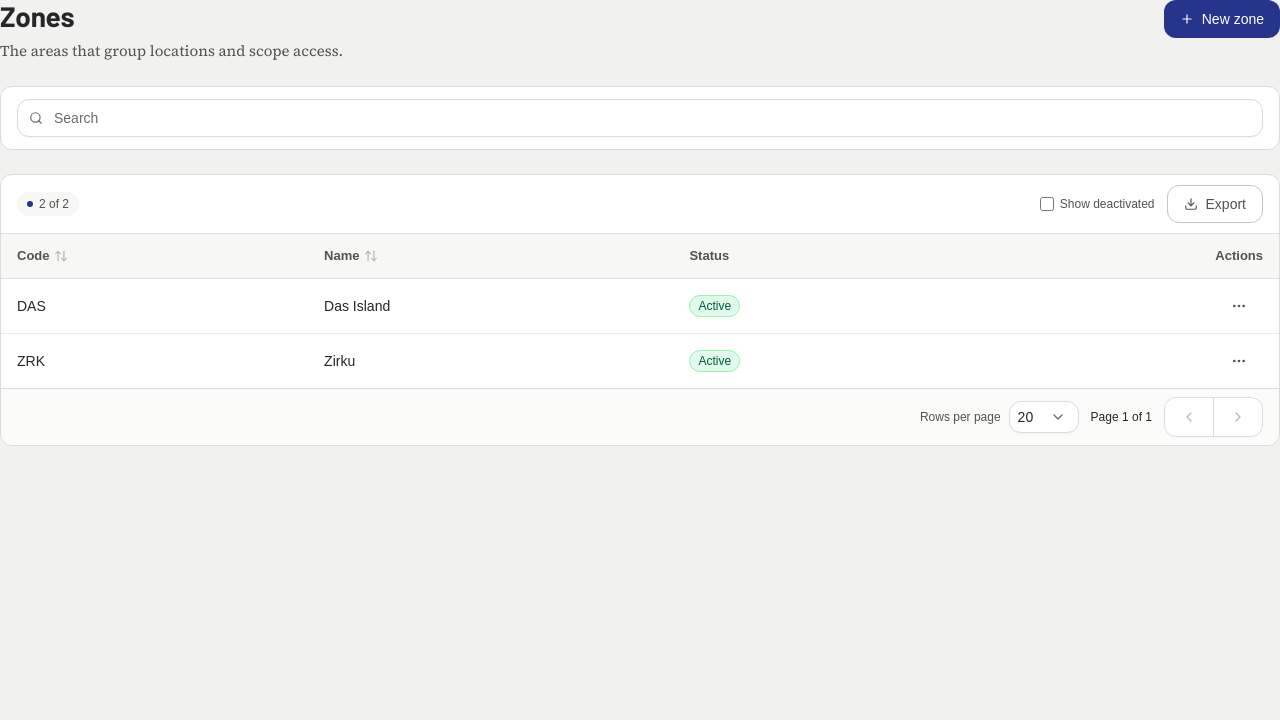
Test: PROMPT-4.2 the master page pattern (plan P1-02) › PROMPT-2.8 deactivates with a reason, then refreshes the list
Expected: the text "Das Island" is shown, 308,279 -> 673,333
Click the button named "Actions for DAS · Das Island" at (1239,306), box 1215,287 -> 1263,325
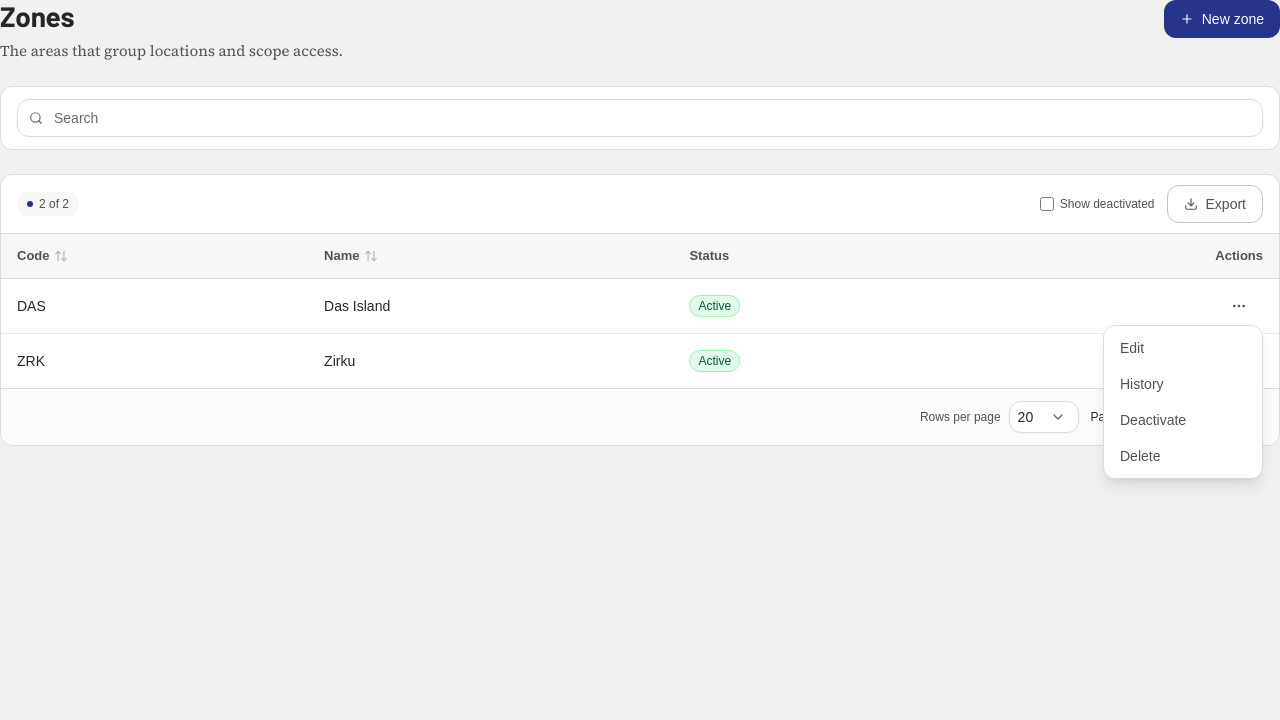
Expected: the menu items read "Edit", "History", "Deactivate", "Delete", in this order
Click the menu item "Deactivate" at (1153,420), box 1120,412 -> 1186,428
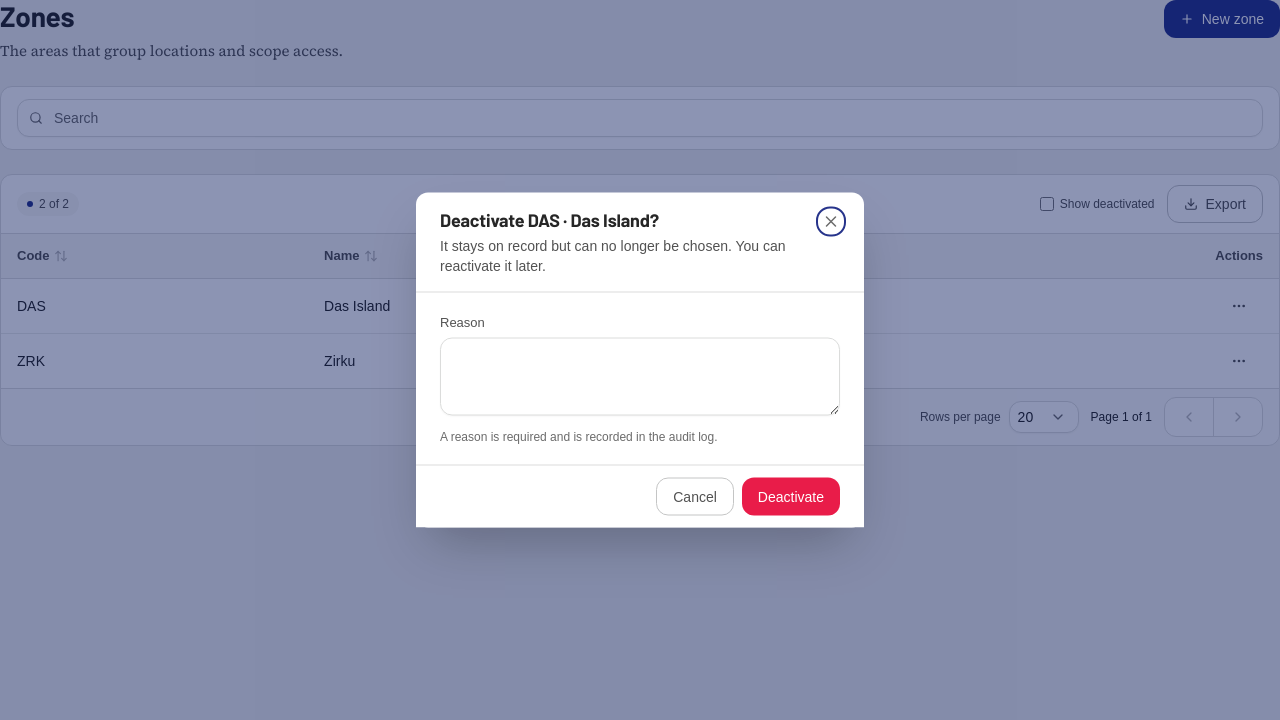
Type "Closed for works" into the text box labelled "Reason" at (640,376), box 440,338 -> 840,416
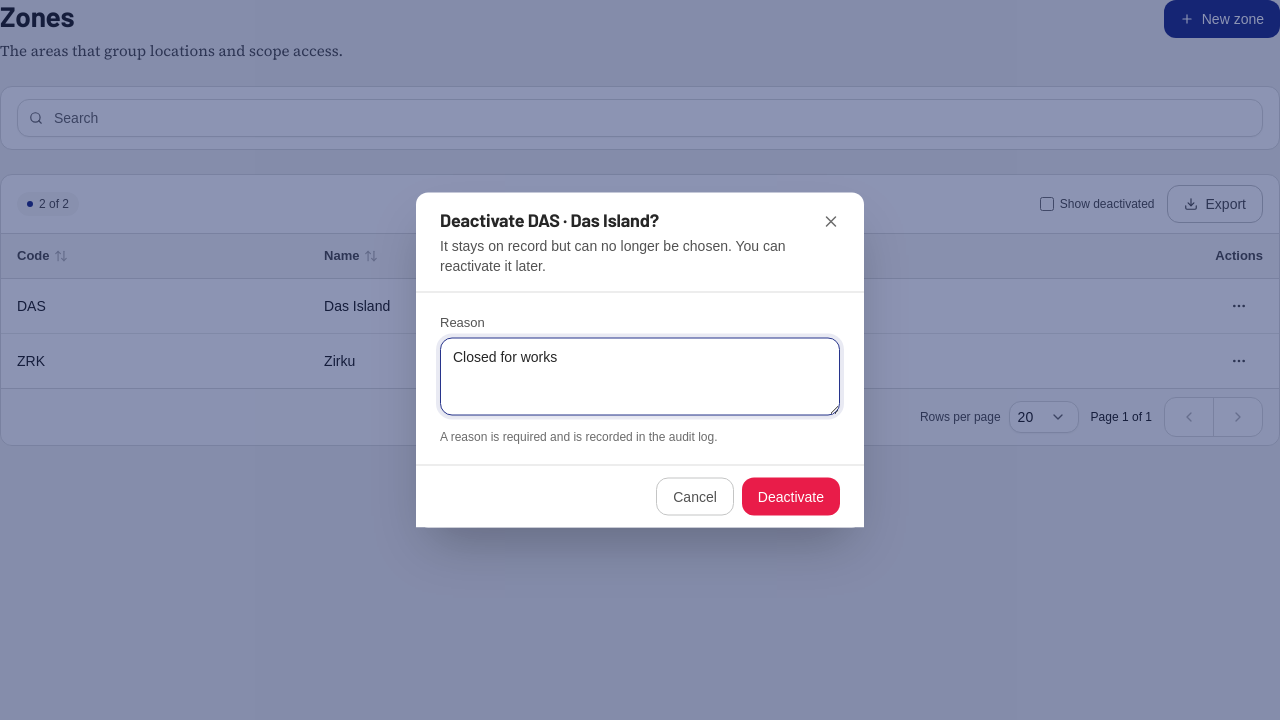
Click the button "Deactivate" at (791,496), box 742,478 -> 840,516
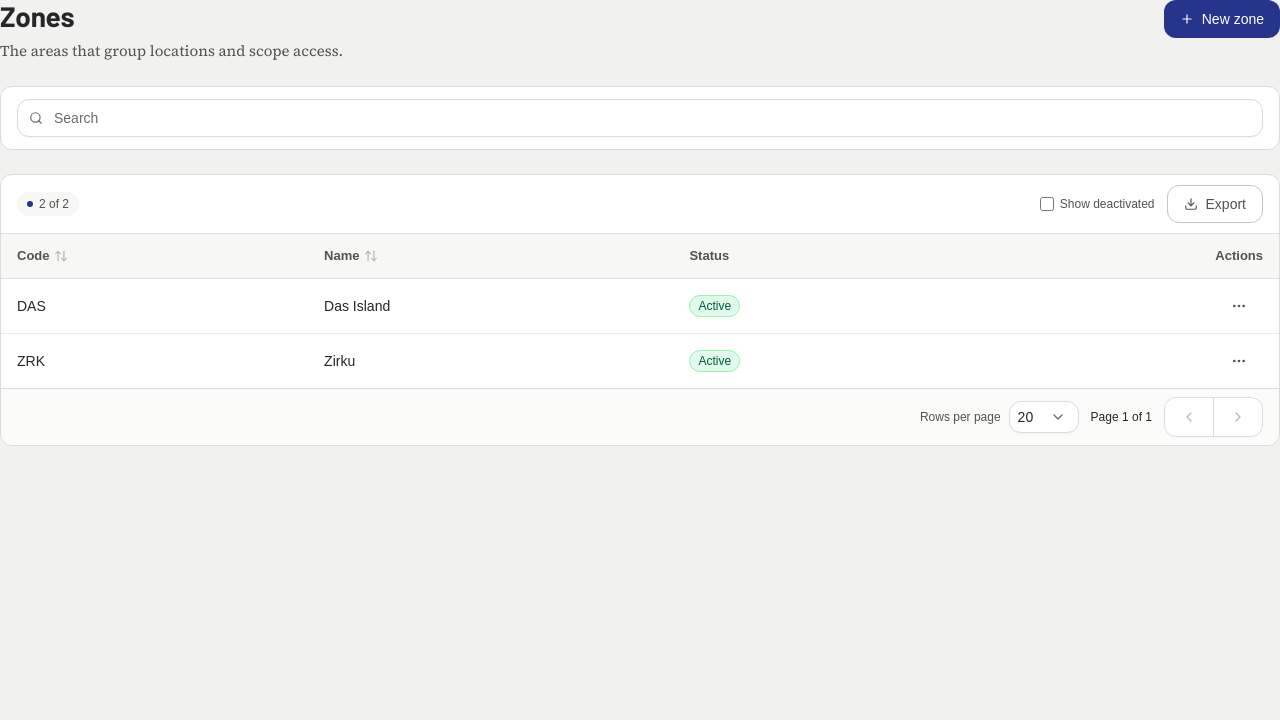
Expected: the dialog is gone
